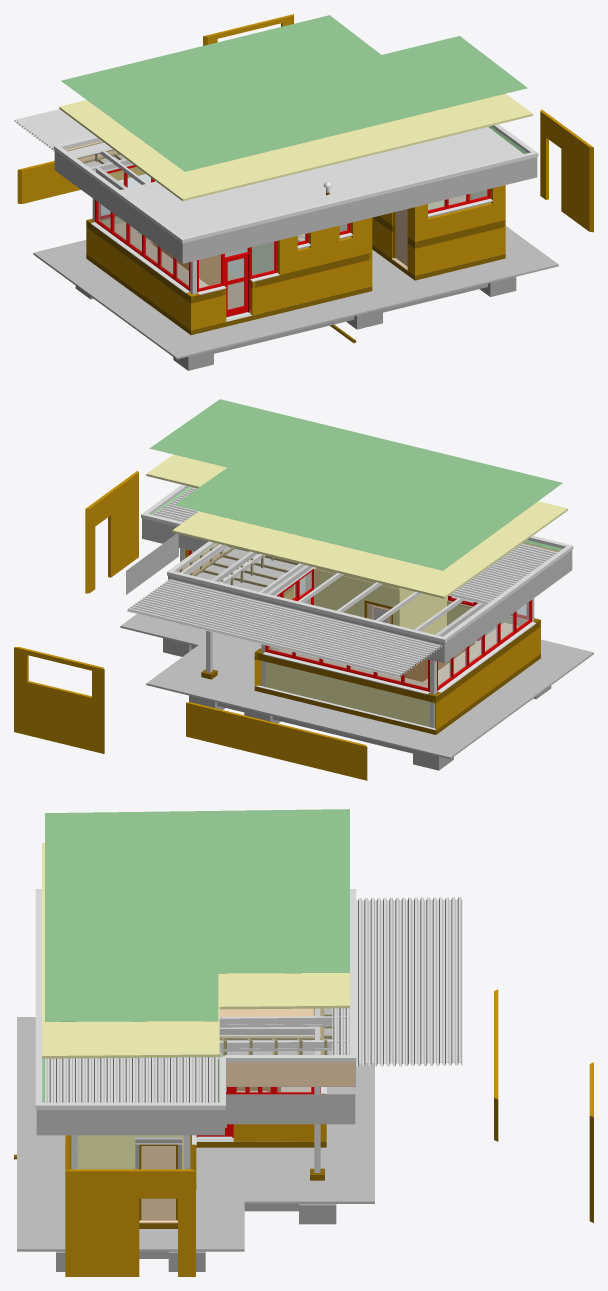
Rendered from gatehouse.glb.
3 renders of one model, top to bottom at view 1: azimuth 30°, elevation 25°; view 2: azimuth 150°, elevation 25°; view 3: azimuth 270°, elevation 25°, orthographic. The views are drawn at different scales.
Visible parts, largest first — view 1: PolyFace Mesh.677, PolyFace Mesh.633, PolyFace Mesh.355, PolyFace Mesh.153, PolyFace Mesh.349, PolyFace Mesh.582, PolyFace Mesh.579, PolyFace Mesh.581, PolyFace Mesh.585, PolyFace Mesh.352, PolyFace Mesh.336, PolyFace Mesh.154 (+23 smaller); view 2: PolyFace Mesh.677, PolyFace Mesh.633, PolyFace Mesh.355, PolyFace Mesh.154, PolyFace Mesh.584, PolyFace Mesh.580, PolyFace Mesh.092, PolyFace Mesh.581, PolyFace Mesh.153, PolyFace Mesh.585, PolyFace Mesh.352, PolyFace Mesh.328 (+20 smaller); view 3: PolyFace Mesh.677, PolyFace Mesh.633, PolyFace Mesh.154, PolyFace Mesh.355, PolyFace Mesh.581, PolyFace Mesh.153, PolyFace Mesh.348, PolyFace Mesh.351, PolyFace Mesh.134, PolyFace Mesh.089, AutoCAD Color Index 31.001, PolyFace Mesh.583 (+12 smaller).
Boxes of the visible parts, bbox=[...] form: PolyFace Mesh.677: bbox=[61, 15, 527, 171]; PolyFace Mesh.633: bbox=[33, 226, 558, 359]; PolyFace Mesh.355: bbox=[59, 93, 532, 201]; PolyFace Mesh.153: bbox=[120, 127, 523, 236]; PolyFace Mesh.349: bbox=[182, 157, 537, 263]; PolyFace Mesh.582: bbox=[191, 217, 372, 330]; PolyFace Mesh.579: bbox=[415, 185, 505, 275]; PolyFace Mesh.581: bbox=[540, 109, 593, 232]; PolyFace Mesh.585: bbox=[86, 220, 191, 330]; PolyFace Mesh.352: bbox=[54, 150, 182, 263]; PolyFace Mesh.336: bbox=[182, 152, 538, 243]; PolyFace Mesh.154: bbox=[14, 109, 112, 158]; PolyFace Mesh.677: bbox=[149, 399, 562, 570]; PolyFace Mesh.633: bbox=[120, 614, 593, 759]; PolyFace Mesh.355: bbox=[146, 454, 567, 598]; PolyFace Mesh.154: bbox=[127, 579, 442, 677]; PolyFace Mesh.584: bbox=[186, 702, 367, 780]; PolyFace Mesh.580: bbox=[14, 647, 104, 753]; PolyFace Mesh.092: bbox=[265, 662, 429, 726]; PolyFace Mesh.581: bbox=[85, 471, 138, 593]; PolyFace Mesh.153: bbox=[154, 487, 557, 604]; PolyFace Mesh.585: bbox=[435, 627, 540, 729]; PolyFace Mesh.352: bbox=[444, 550, 572, 662]; PolyFace Mesh.328: bbox=[314, 568, 399, 625]; PolyFace Mesh.677: bbox=[45, 809, 349, 1021]; PolyFace Mesh.633: bbox=[17, 1017, 374, 1251]; PolyFace Mesh.154: bbox=[332, 897, 462, 1066]; PolyFace Mesh.355: bbox=[42, 843, 349, 1058]; PolyFace Mesh.581: bbox=[65, 1169, 195, 1276]; PolyFace Mesh.153: bbox=[45, 1057, 219, 1102]; PolyFace Mesh.348: bbox=[36, 1110, 224, 1135]; PolyFace Mesh.351: bbox=[225, 1094, 355, 1124]; PolyFace Mesh.134: bbox=[226, 1062, 354, 1086]; PolyFace Mesh.089: bbox=[77, 1135, 183, 1169]; AutoCAD Color Index 31.001: bbox=[139, 1146, 177, 1223]; PolyFace Mesh.583: bbox=[233, 1124, 326, 1141].
Bounding box in the file's own units: 15.19 × 6.85 × 14.
